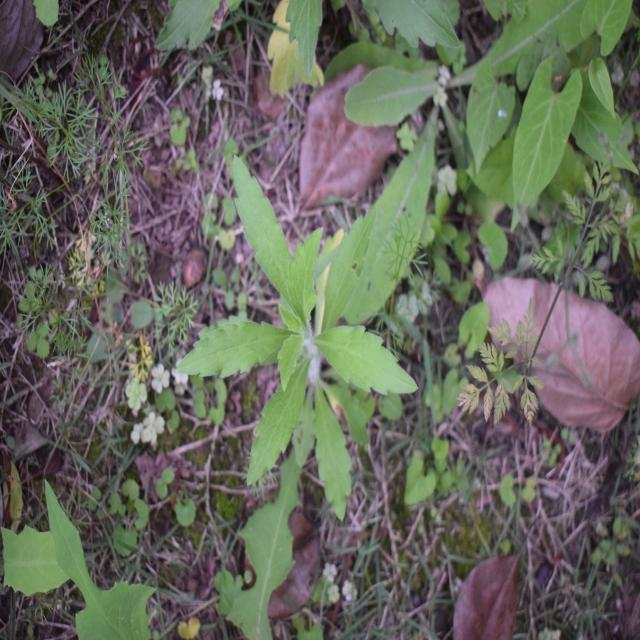horseweed: (209, 199, 405, 498)
